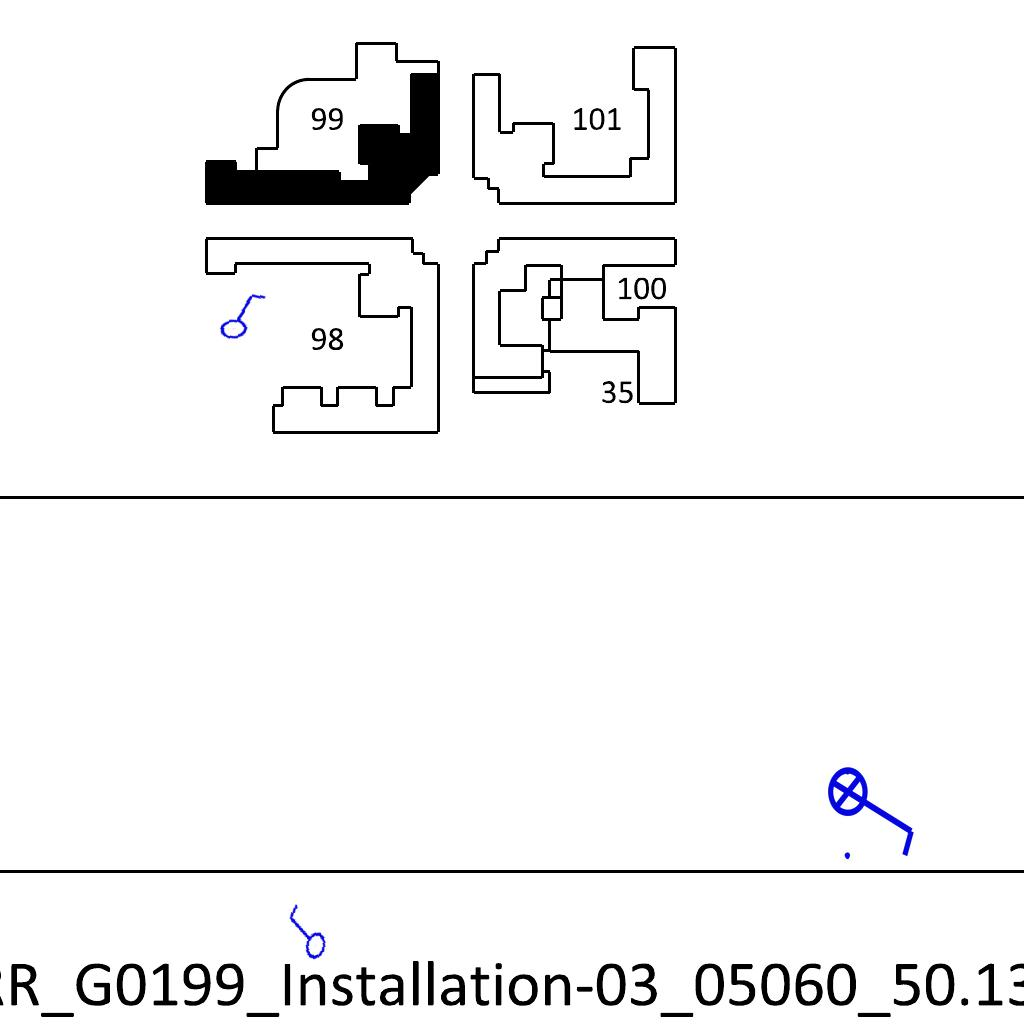Ausschalter: (275, 901, 335, 967), (210, 287, 272, 343)
Ausschalter_beleuchtet: (826, 753, 922, 865)
